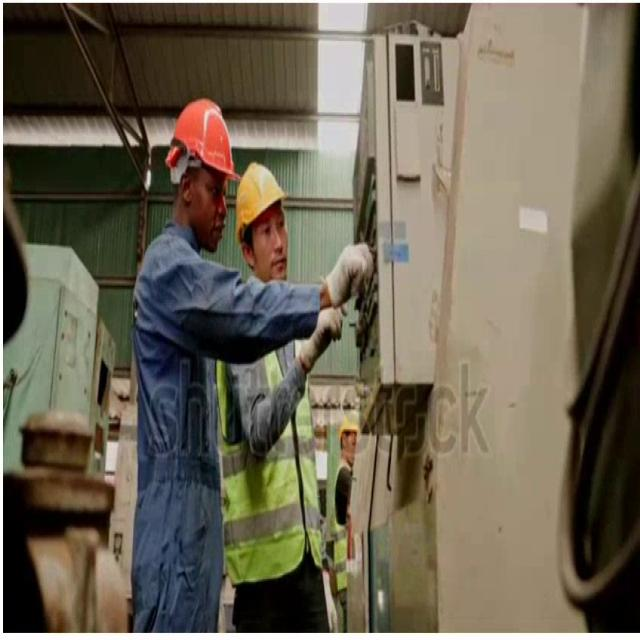gloved: (325, 241, 374, 307), (298, 304, 344, 374), (321, 569, 338, 631)
